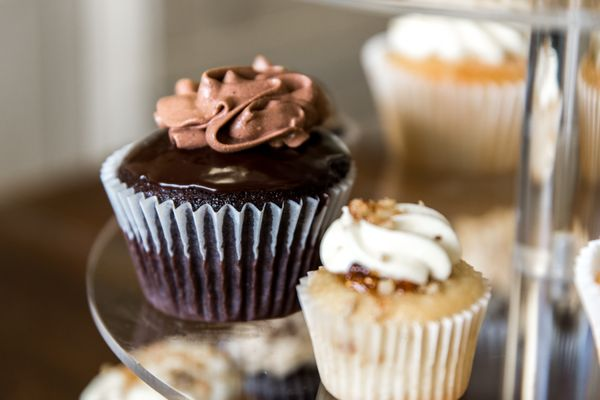burger: (501, 16, 600, 390)
